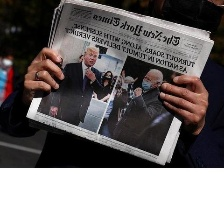news_paper: (26, 0, 216, 168)
